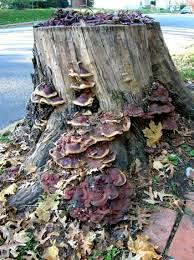Ganoderma - Fruit Body: (48, 113, 133, 222), (141, 79, 183, 131), (68, 60, 97, 106), (32, 81, 67, 108)
